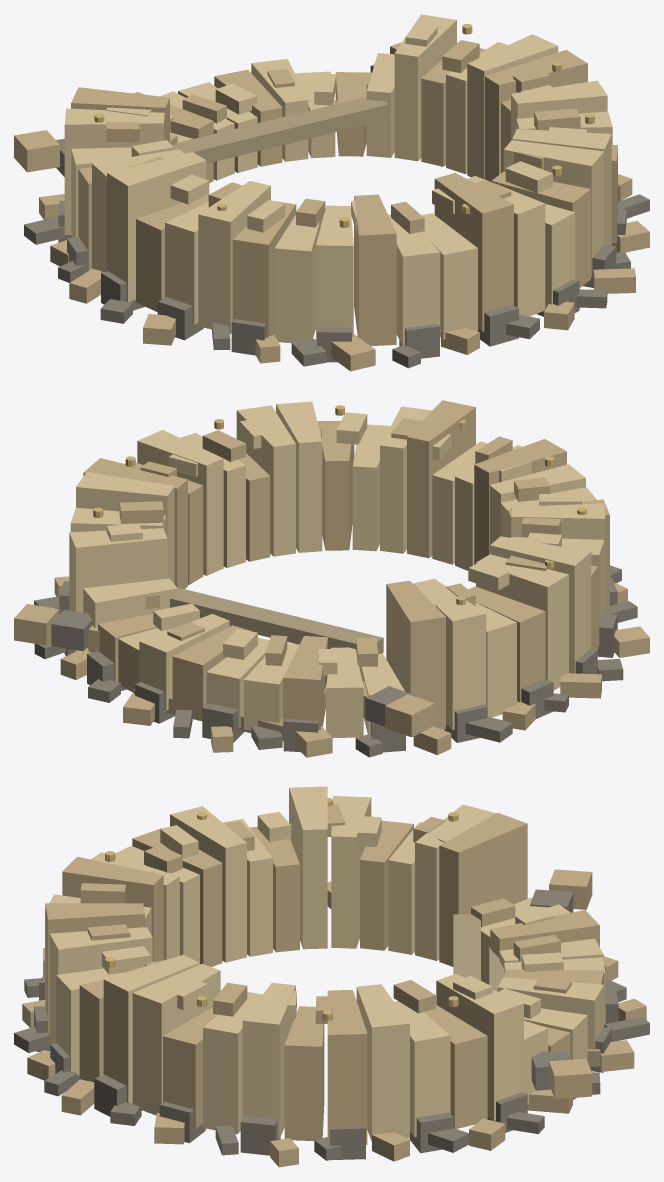
The model's file is palace-terrace-ring.glb.
3 views of the same model, one above another, from view 1: azimuth 30°, elevation 25°; view 2: azimuth 150°, elevation 25°; view 3: azimuth 270°, elevation 25° (orthographic). The views are drawn at different scales.
Parts seen in each view (by area): view 1: terrace_outer_block_30, terrace_outer_block_20, terrace_outer_block_27, forecourt_step_3, terrace_outer_block_23, terrace_outer_block_25, terrace_outer_block_04, terrace_outer_block_24, terrace_outer_block_26, terrace_outer_block_28, terrace_outer_block_29, terrace_outer_block_31 (+65 smaller); view 2: terrace_outer_block_15, terrace_outer_block_30, terrace_outer_block_04, terrace_outer_block_16, terrace_outer_block_35, terrace_outer_block_19, terrace_outer_block_34, terrace_outer_block_38, forecourt_step_3, terrace_outer_block_20, terrace_outer_block_33, terrace_outer_block_31 (+65 smaller); view 3: terrace_outer_block_15, terrace_outer_block_01, terrace_outer_block_35, terrace_outer_block_38, terrace_outer_block_04, terrace_outer_block_00, terrace_outer_block_20, terrace_outer_block_39, terrace_outer_block_23, terrace_outer_block_37, terrace_outer_block_34, terrace_outer_block_19 (+64 smaller).
Boxes of the visible parts, box(x1,y1,x2,y2) form: terrace_outer_block_30: box(434, 172, 513, 331); terrace_outer_block_20: box(107, 152, 206, 302); terrace_outer_block_27: box(354, 194, 396, 346); forecourt_step_3: box(173, 97, 388, 163); terrace_outer_block_23: box(198, 181, 270, 333); terrace_outer_block_25: box(274, 215, 322, 343); terrace_outer_block_04: box(394, 14, 456, 161); terrace_outer_block_24: box(232, 201, 296, 337); terrace_outer_block_26: box(316, 205, 353, 340); terrace_outer_block_28: box(388, 214, 440, 345); terrace_outer_block_29: box(421, 213, 477, 339); terrace_outer_block_31: box(467, 176, 545, 316); terrace_outer_block_15: box(386, 580, 445, 729); terrace_outer_block_30: box(407, 400, 475, 558); terrace_outer_block_04: box(69, 528, 167, 650); terrace_outer_block_16: box(413, 578, 486, 729); terrace_outer_block_35: box(236, 405, 295, 556); terrace_outer_block_19: box(476, 554, 568, 690); terrace_outer_block_34: box(276, 401, 322, 552); terrace_outer_block_38: box(137, 430, 223, 575); forecourt_step_3: box(170, 587, 383, 654); terrace_outer_block_20: box(490, 536, 591, 673); terrace_outer_block_33: box(317, 421, 354, 550); terrace_outer_block_31: box(380, 406, 432, 553); terrace_outer_block_15: box(439, 813, 527, 966); terrace_outer_block_01: box(356, 984, 409, 1141); terrace_outer_block_35: box(132, 964, 220, 1115); terrace_outer_block_38: box(242, 982, 295, 1138); terrace_outer_block_04: box(436, 973, 523, 1120); terrace_outer_block_00: box(327, 990, 367, 1144); terrace_outer_block_20: box(289, 786, 327, 949); terrace_outer_block_39: box(284, 1006, 324, 1140); terrace_outer_block_23: box(170, 806, 246, 962); terrace_outer_block_37: box(203, 991, 262, 1134); terrace_outer_block_34: box(103, 955, 199, 1103); terrace_outer_block_19: box(331, 796, 371, 948).
Size of the model in its own units: 2.99 by 0.6936 by 3.01.
